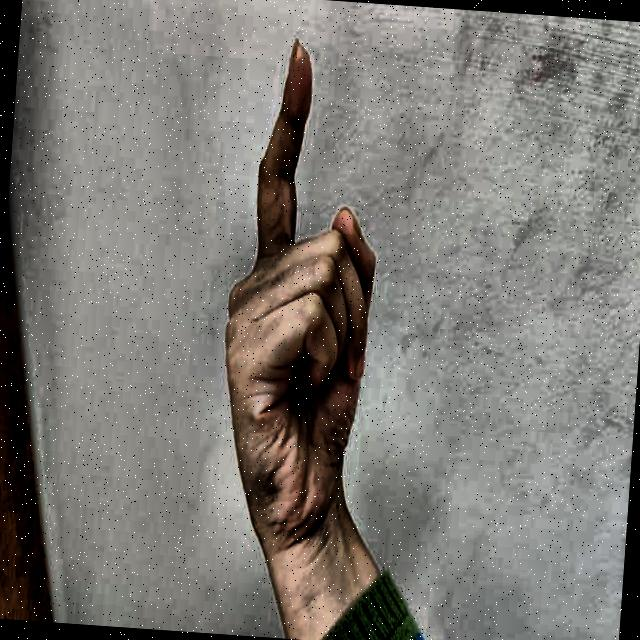U: (188, 21, 405, 552)
